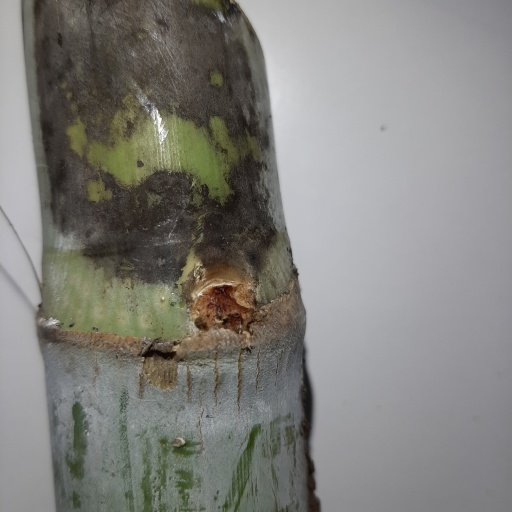Damage_Bud: (189, 266, 253, 326)
